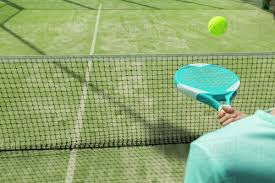tennis_ball: (207, 14, 227, 36)
